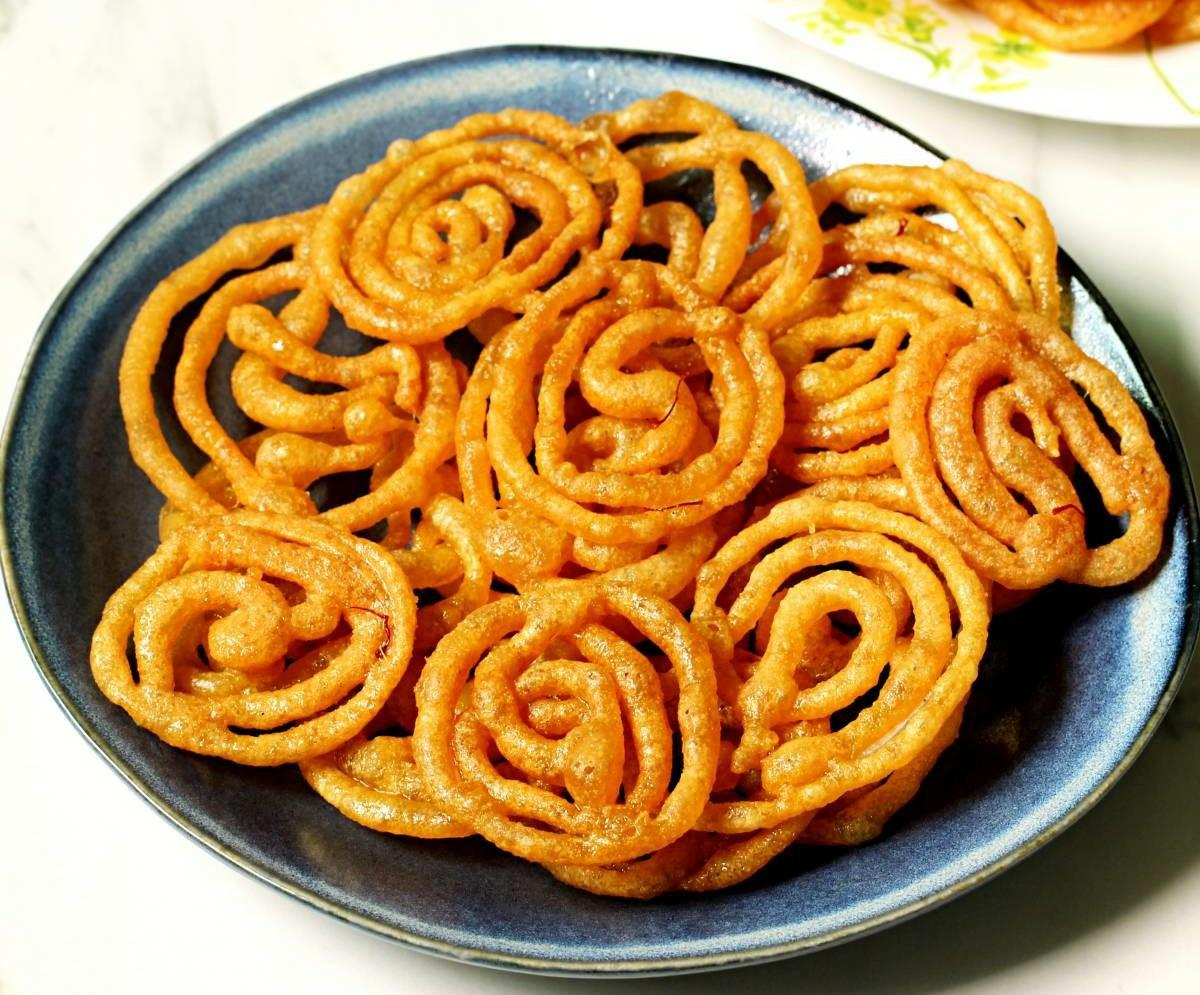Jalebi: (89, 88, 1169, 897)
